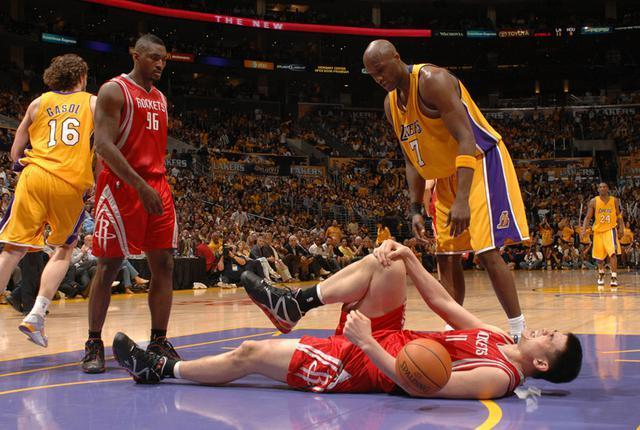bending: (368, 38, 535, 339)
down: (94, 231, 588, 399)
up: (84, 33, 196, 379), (2, 35, 108, 350), (579, 181, 629, 293)
